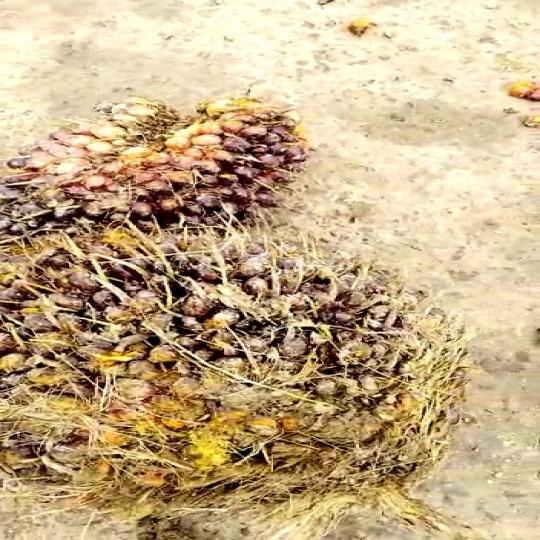kurang masak: (0, 221, 494, 538), (0, 97, 328, 243)
